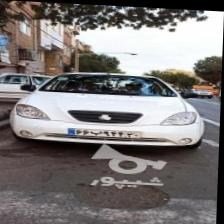plate: (64, 126, 144, 137)
